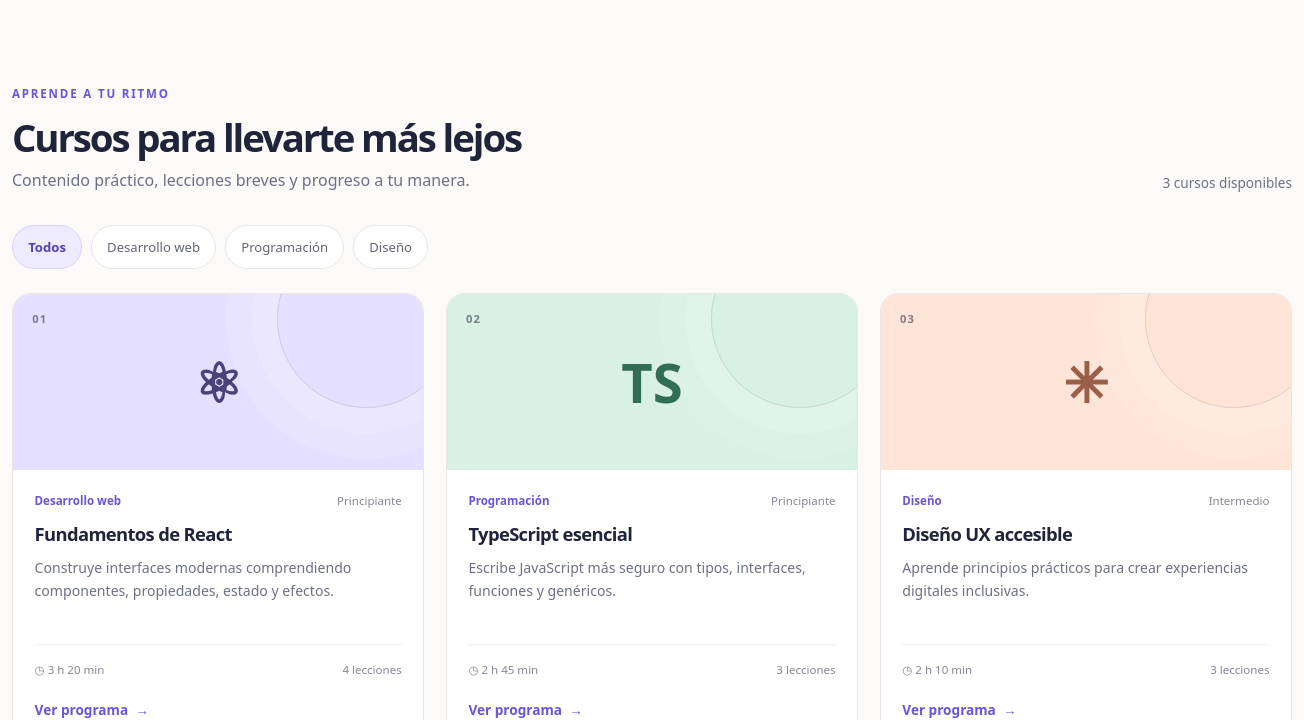
Scenario: componentes de interfaz › filtra cursos por categoría
What coordinates should you click on to do the following:
click the button "Diseño"
I would click on:
 (391, 247)
Its box is top-left (353, 225), bottom-right (428, 269).
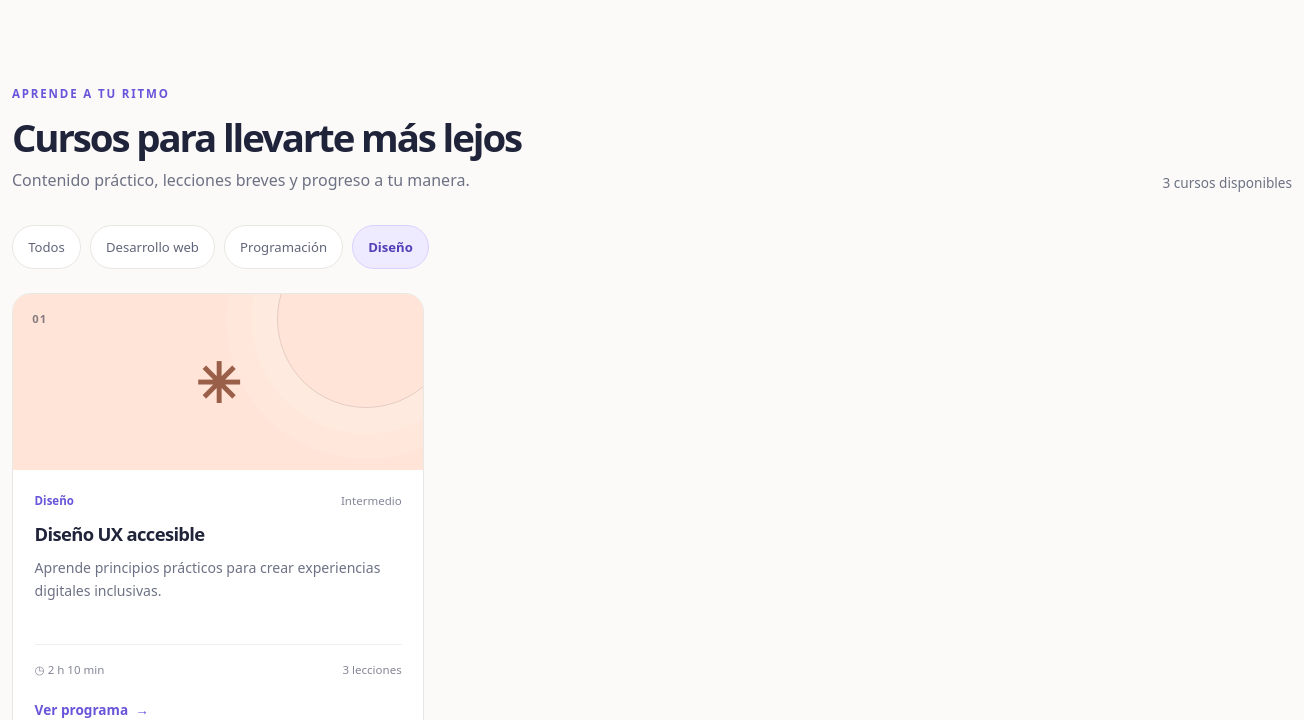
Expected: the heading "Diseño UX accesible" is shown, top-left (35, 521), bottom-right (205, 546)
Now the link "Fundamentos de React" is gone
